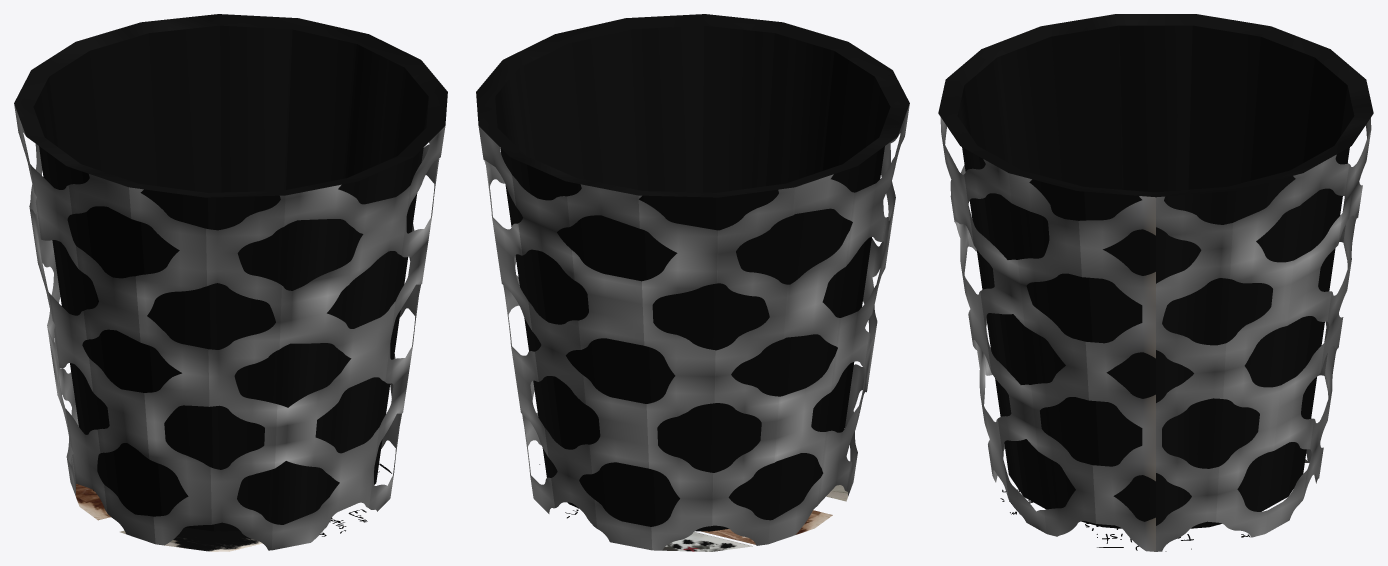
File: Cubo Basura.fbx
3 renders of one model, left to right at view 1: azimuth 30°, elevation 25°; view 2: azimuth 150°, elevation 25°; view 3: azimuth 270°, elevation 25°, orthographic.
Visible parts, largest first — view 1: Basura.001; view 2: Basura.001; view 3: Basura.001.
Part boxes in pixels (left/top/right/bottom): Basura.001: left=14, top=14, right=447, bottom=551; Basura.001: left=476, top=14, right=909, bottom=551; Basura.001: left=938, top=14, right=1373, bottom=551.
Size of the model in its own units: 45.49 by 43.83 by 45.68.
